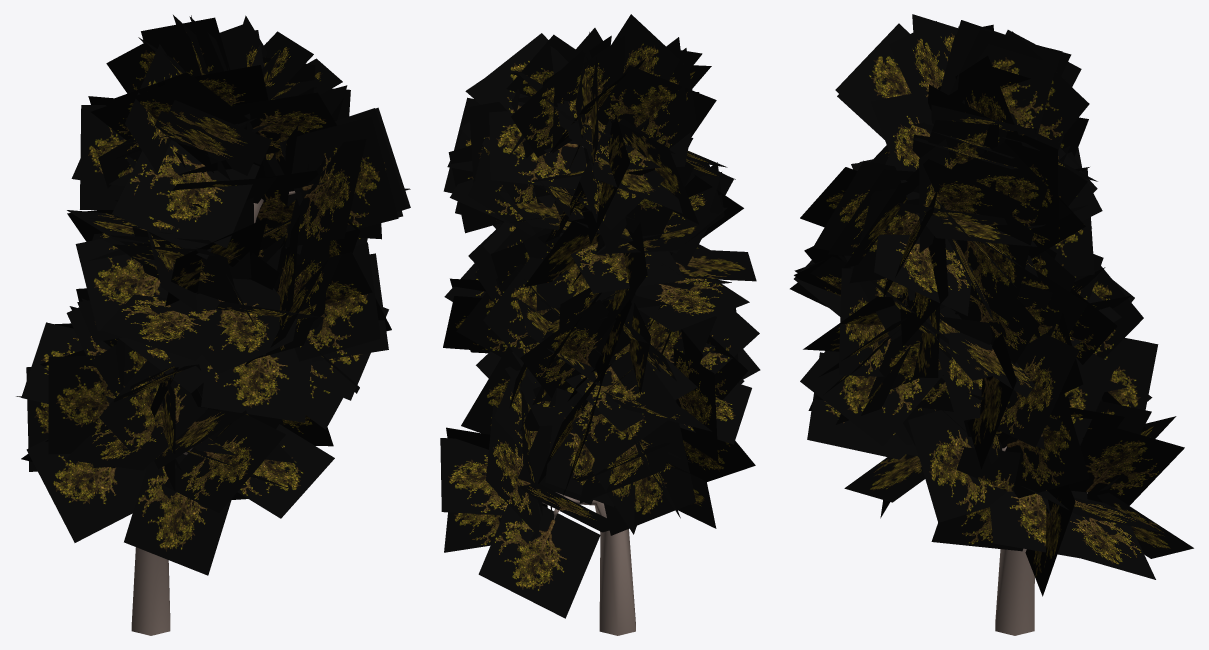
Rendered from sample_tree_2.gltf.
3 views of the same model, side by side, from view 1: azimuth 30°, elevation 25°; view 2: azimuth 150°, elevation 25°; view 3: azimuth 270°, elevation 25° (orthographic). The views are drawn at different scales.
Parts seen in each view (by area): view 1: mesh_1, mesh_0; view 2: mesh_1, mesh_0; view 3: mesh_1, mesh_0.
Part boxes in pixels (<box>): mesh_1: <box>16,15,410,575</box>; mesh_0: <box>131,191,295,635</box>; mesh_1: <box>440,14,760,618</box>; mesh_0: <box>542,146,635,635</box>; mesh_1: <box>790,14,1193,596</box>; mesh_0: <box>995,446,1087,635</box>.
Size of the model in its own units: 6.14 by 11.47 by 6.79.
Materials: 2 (1 with a texture image).
